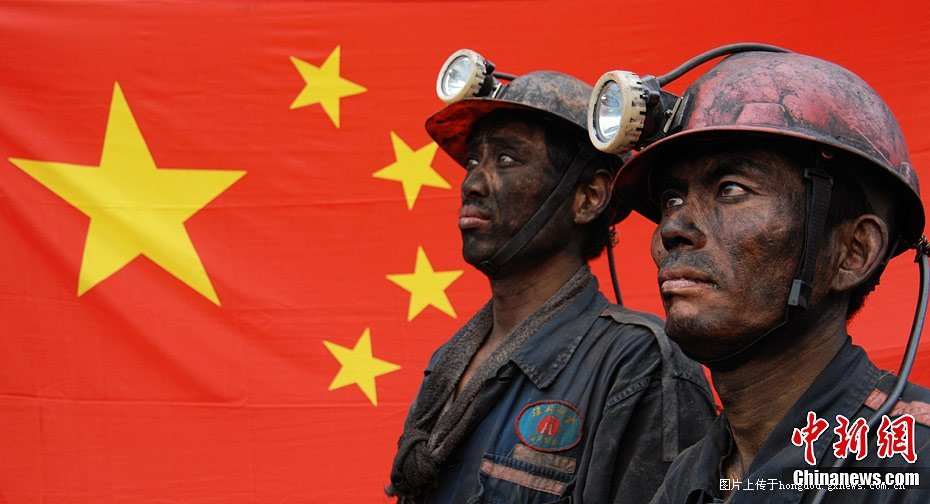helmet: (622, 41, 924, 341), (442, 41, 626, 274)
